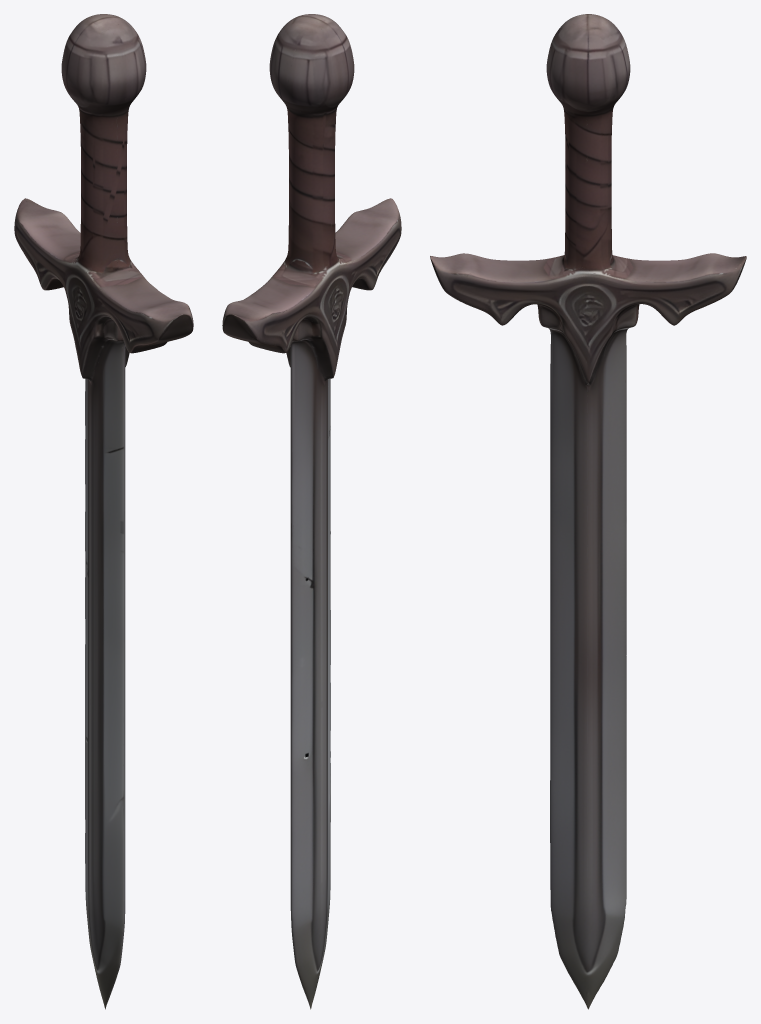
The model's file is Sword 09.fbx.
3 renders of one model, left to right at view 1: azimuth 30°, elevation 25°; view 2: azimuth 150°, elevation 25°; view 3: azimuth 270°, elevation 25°, orthographic.
Parts seen in each view (by area): view 1: Sword 09; view 2: Sword 09; view 3: Sword 09.
Boxes of the visible parts, x1=… form: Sword 09: x1=14, y1=14, x2=193, y2=1009; Sword 09: x1=222, y1=14, x2=401, y2=1009; Sword 09: x1=430, y1=14, x2=746, y2=1009.
Bounding box in the file's own units: 14.68 × 189 × 54.68.
Materials: 1 (1 with a texture image).
